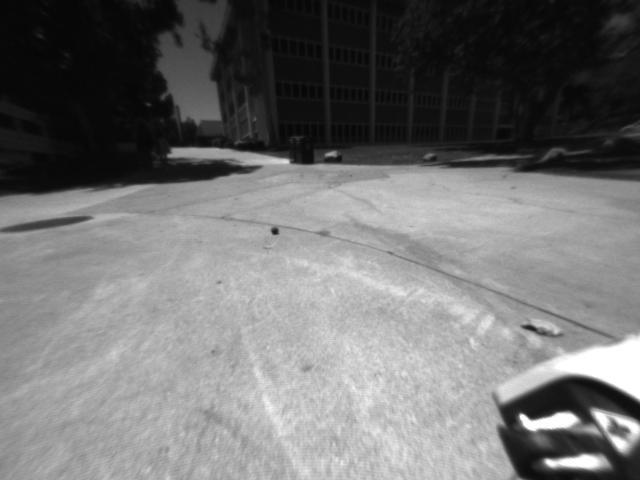dogtoy: (267, 221, 285, 239)
